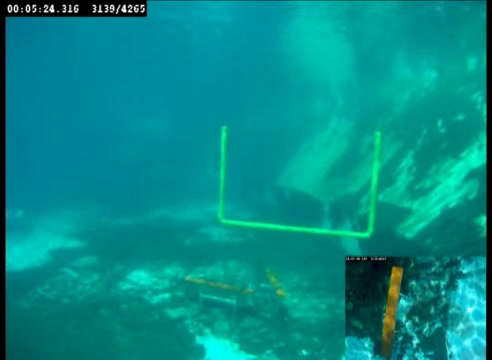channel: (213, 122, 386, 243)
